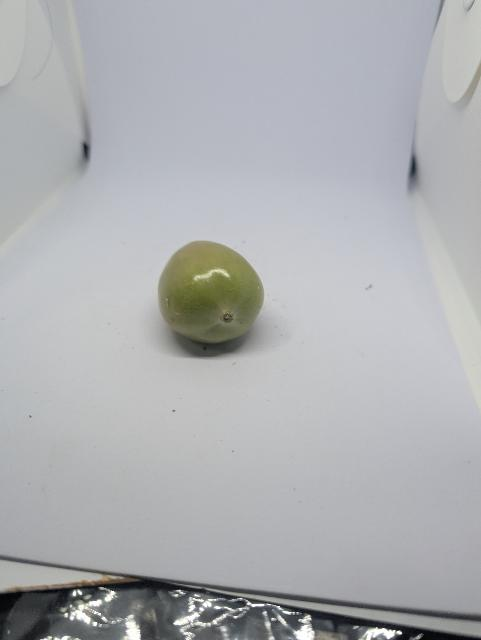green: (145, 224, 287, 358)
